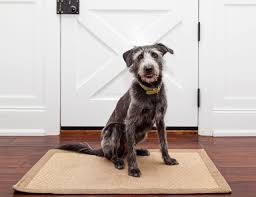dog_sitting: (96, 39, 180, 178)
